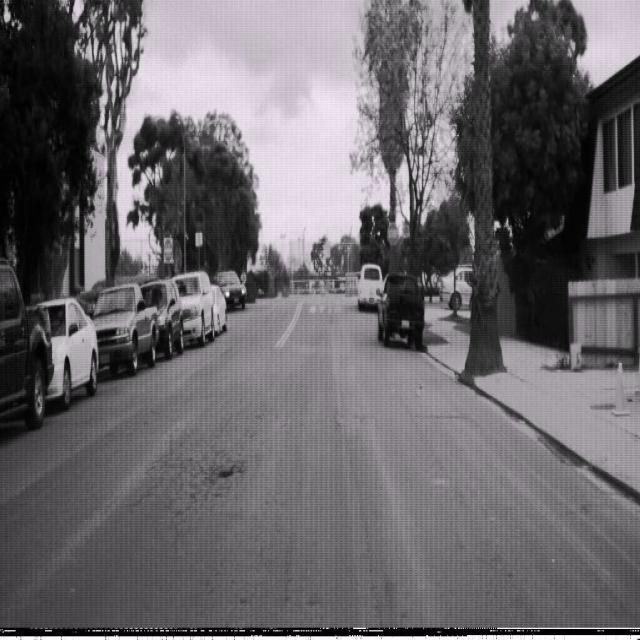stop_sign: (386, 221, 400, 246)
